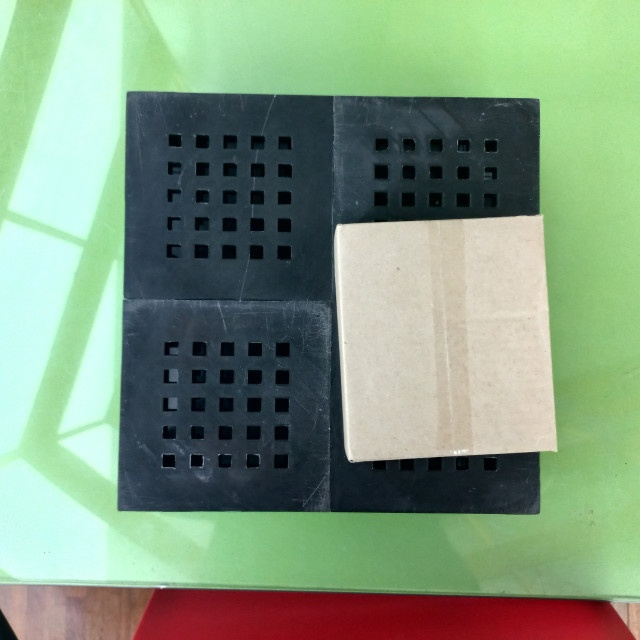box: (329, 216, 558, 466)
pallet: (106, 86, 548, 523)
